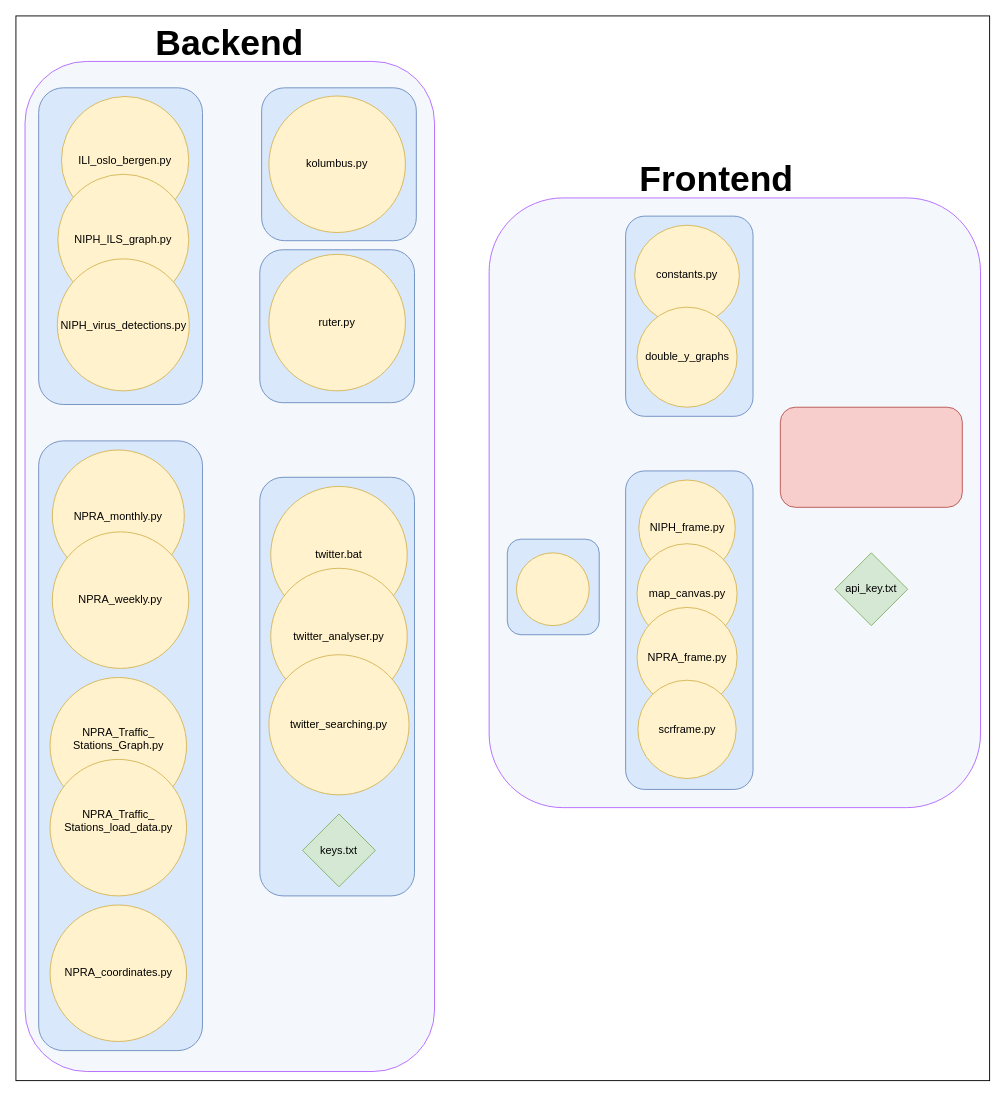
Image size: 1006x1097. Some labels were removed from this diagram. The shapes that lost their labels are listed below. From the top down, each one's centre as x and y in pixels, then its label:
At [870,456]: "GUI.py".
At [552,589]: "__init__.py".
